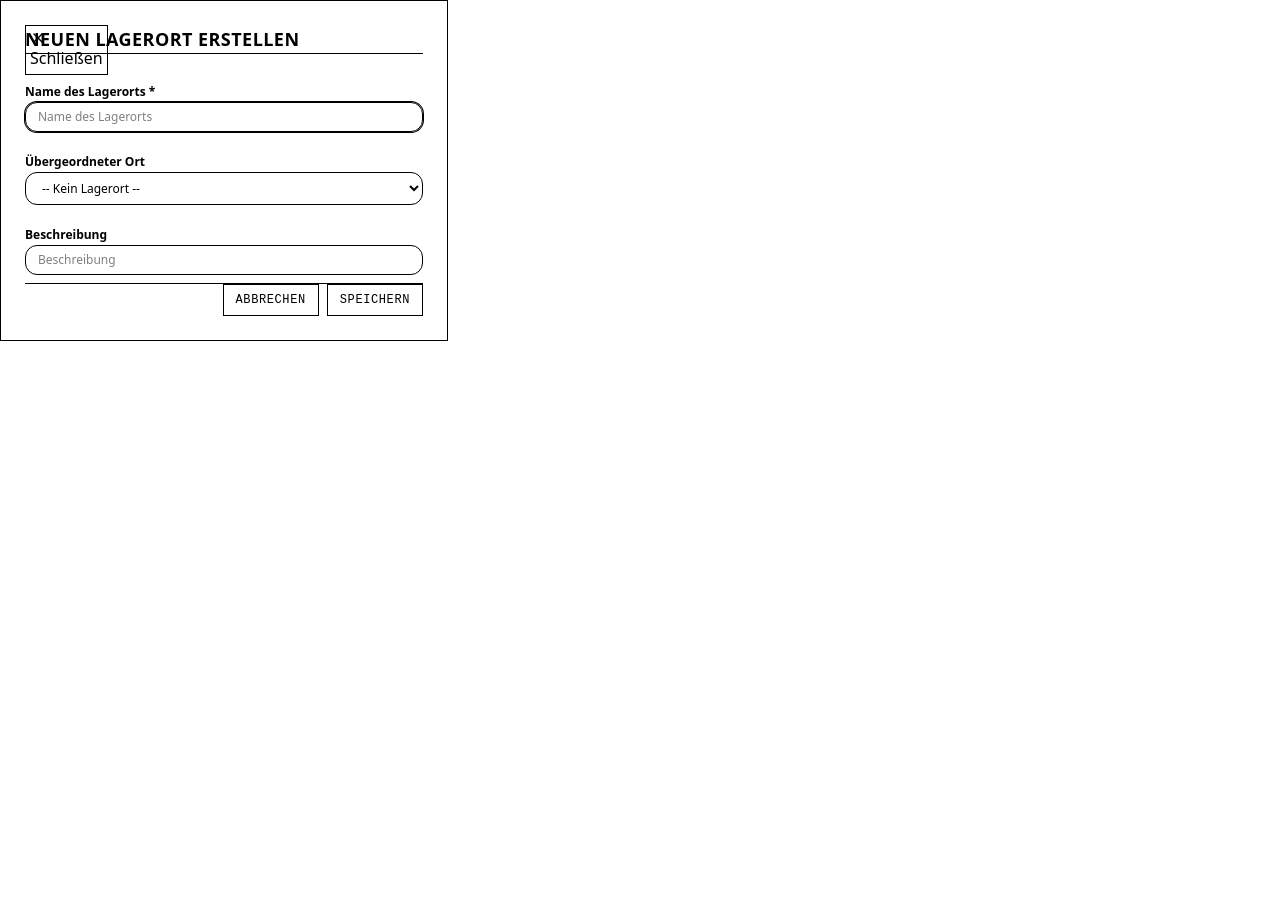
Test: LocationFormModal › shows the localized save error, not the exception text
Type "Keller" into the field labelled "Name des Lagerorts *".
click(224, 117); type("Keller")  # box [25,102,423,132]
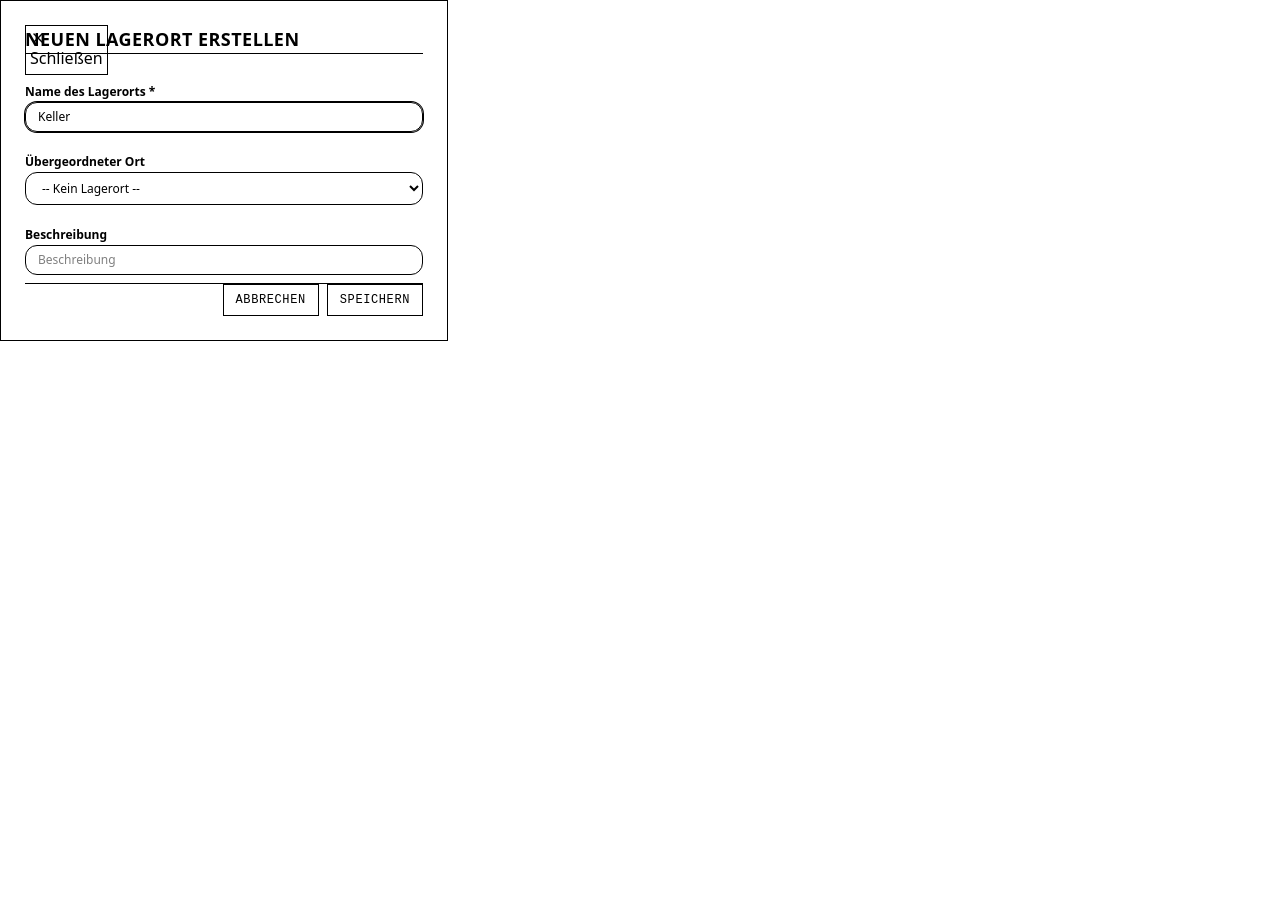
Click the button "Speichern".
click(375, 300)  # box [327,284,423,316]
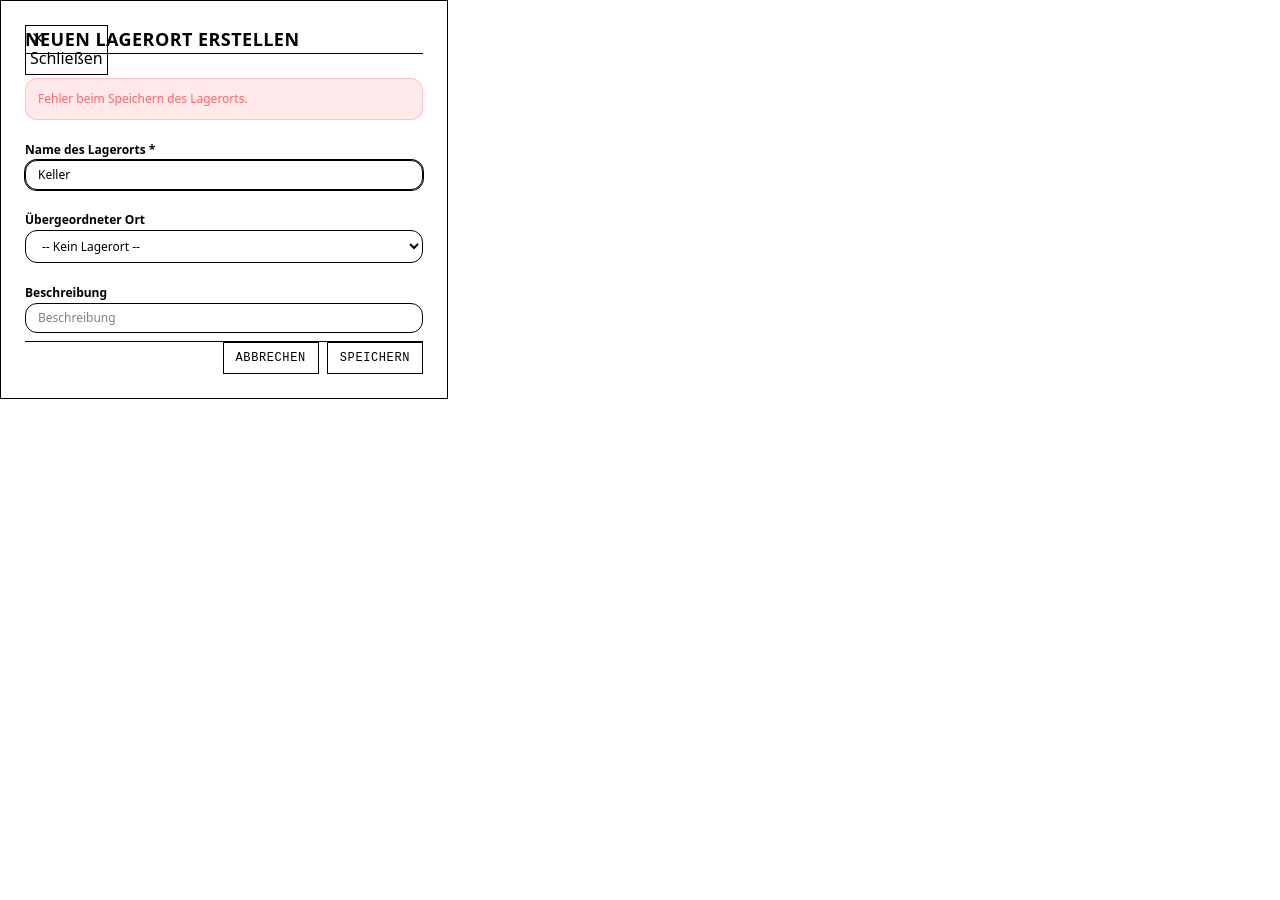
Expected: the message reads "Fehler beim Speichern des Lagerorts.", [38,90,248,107]
